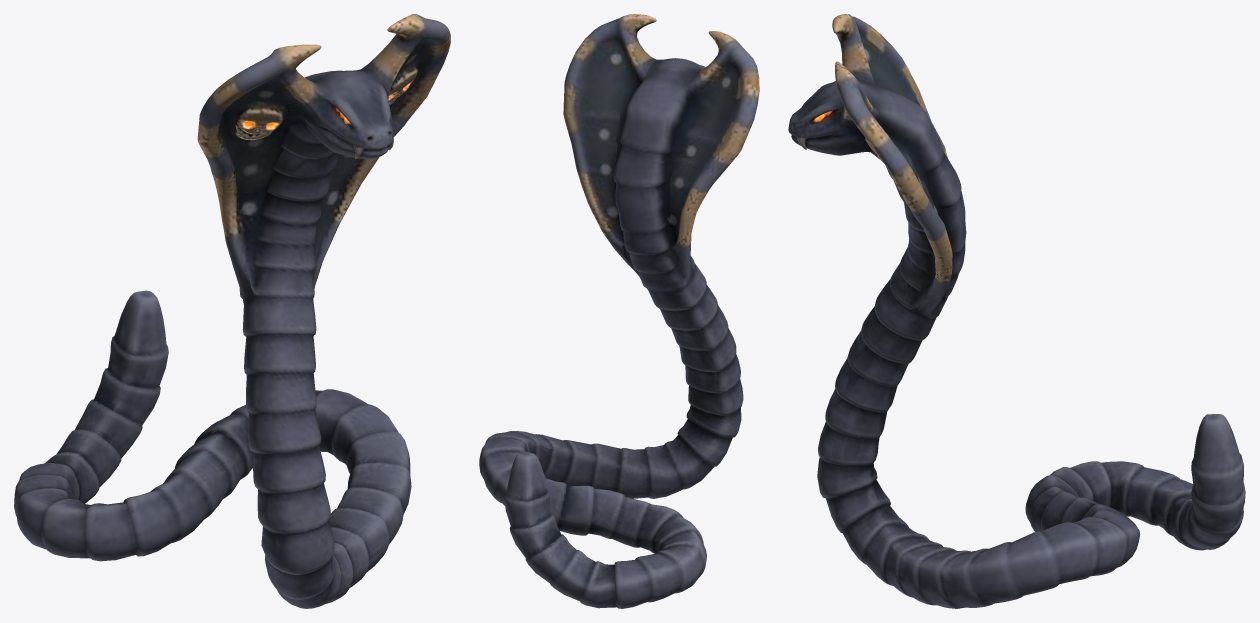
Rendered from MZ4250 - Iron Cobra.glb.
3 renders of one model, left to right at view 1: azimuth 30°, elevation 25°; view 2: azimuth 150°, elevation 25°; view 3: azimuth 270°, elevation 25°, orthographic. The views are drawn at different scales.
Parts seen in each view (by area): view 1: ORGANIC BASE SPHERE.001; view 2: ORGANIC BASE SPHERE.001; view 3: ORGANIC BASE SPHERE.001.
Part boxes in pixels (x1,y1,x2,y2): ORGANIC BASE SPHERE.001: [14, 14, 450, 608]; ORGANIC BASE SPHERE.001: [479, 14, 759, 608]; ORGANIC BASE SPHERE.001: [788, 14, 1245, 608].
Bounding box in the file's own units: 0.4331 × 0.7719 × 0.5891.
1 material, 1 textured.
